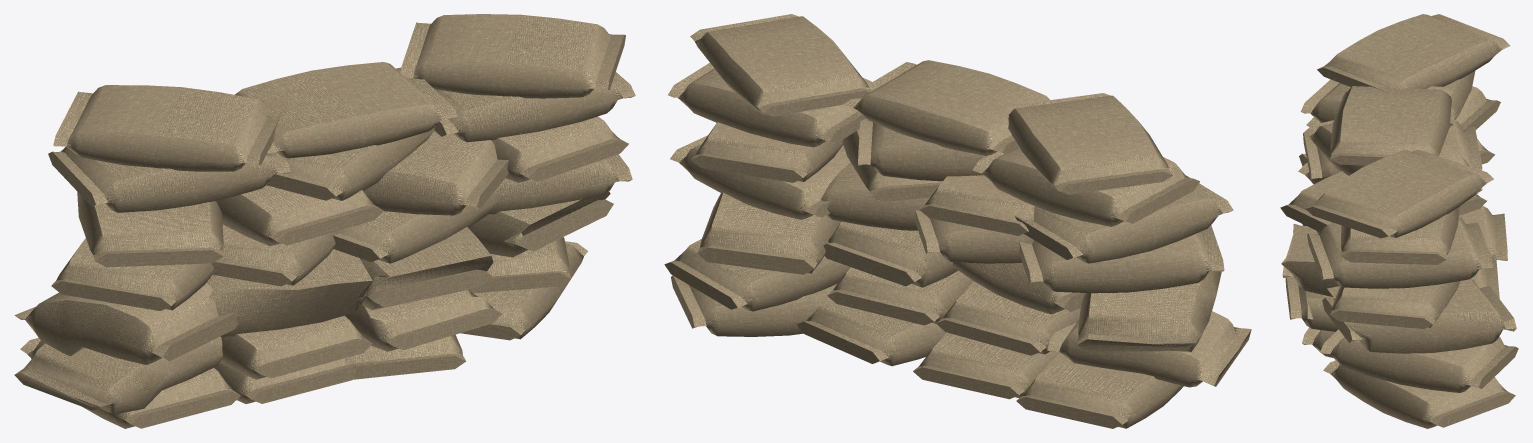
Rendered from 障害物（布袋）.fbx.
The picture shows the model from 3 angles, left to right: view 1: azimuth 30°, elevation 25°; view 2: azimuth 150°, elevation 25°; view 3: azimuth 270°, elevation 25°; orthographic projection. The views are drawn at different scales.
Visible parts, largest first — view 1: 立方体.017; view 2: 立方体.017; view 3: 立方体.017.
Part boxes in pixels (box(x1,y1,x2,y2)): 立方体.017: box(14, 14, 635, 428); 立方体.017: box(664, 14, 1251, 428); 立方体.017: box(1280, 14, 1518, 428).
Size of the model in its own units: 543 by 244 by 234.
